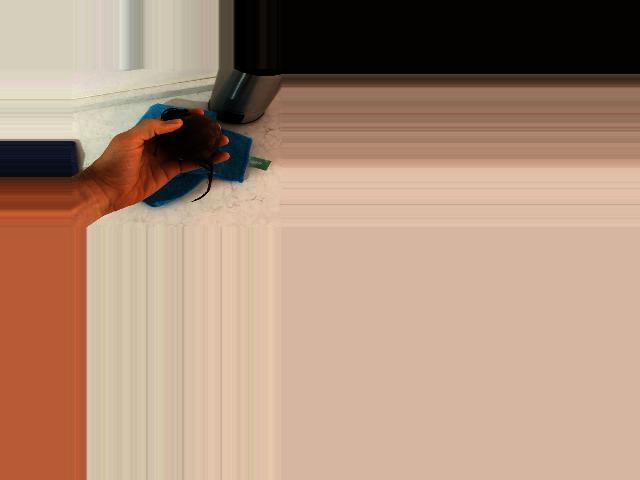beet: (155, 108, 221, 202)
